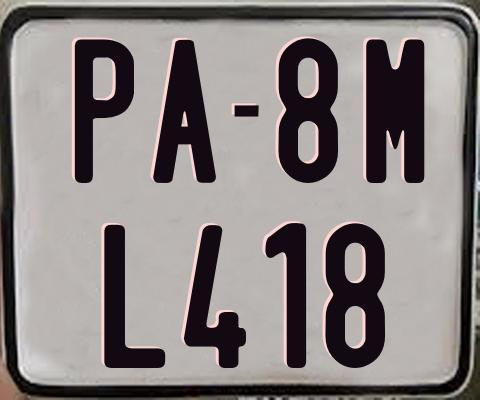1: (264, 221, 306, 371)
4: (183, 225, 251, 373)
8: (325, 223, 387, 374), (277, 35, 337, 186)
A: (151, 37, 218, 184)
L: (102, 224, 169, 371)
M: (364, 38, 426, 184)
P: (72, 37, 133, 181)
